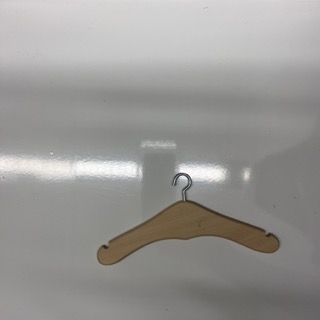rack: (97, 172, 280, 265)
